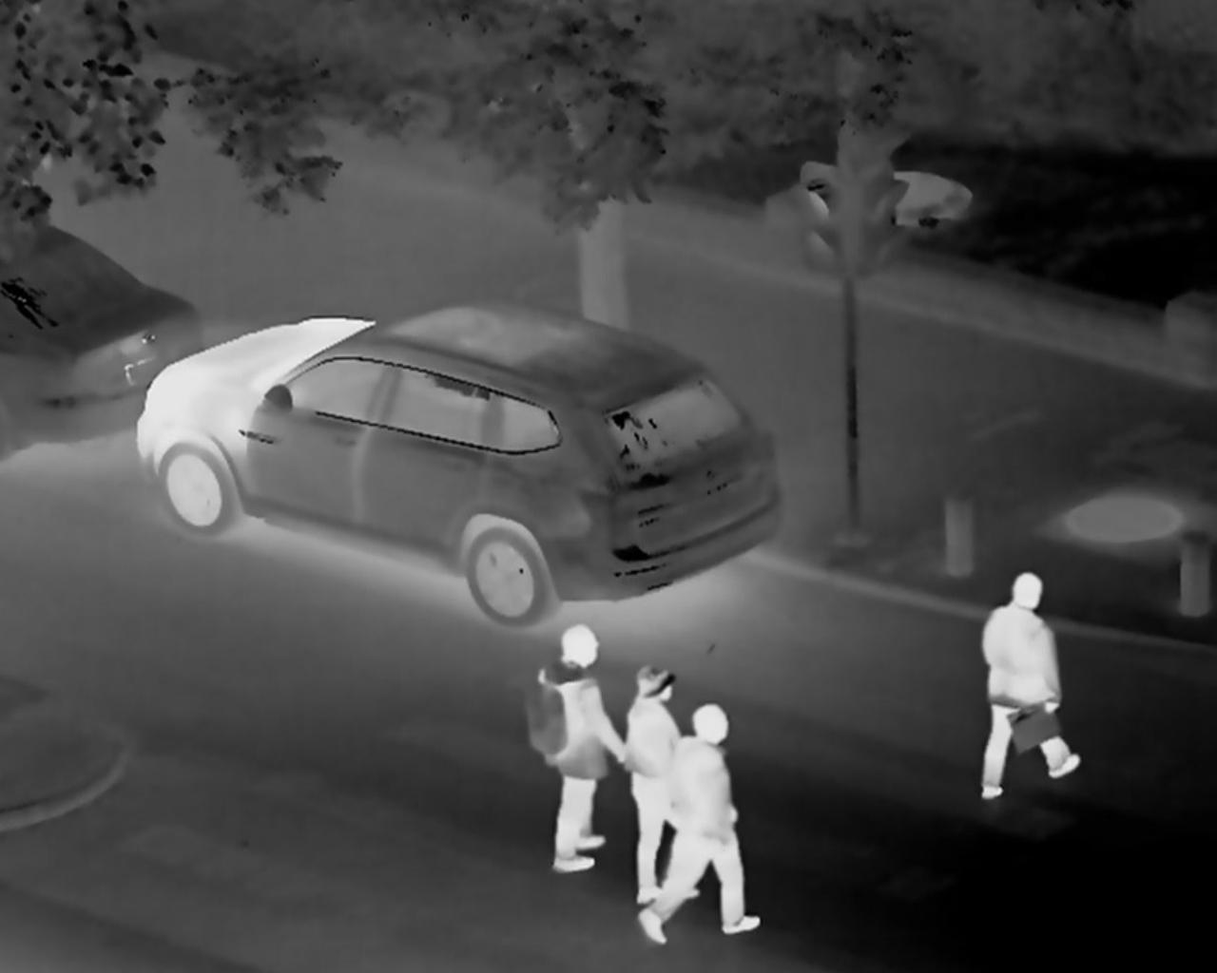person: (965, 563, 1091, 794), (529, 616, 617, 866), (667, 705, 748, 960), (626, 658, 657, 949)
